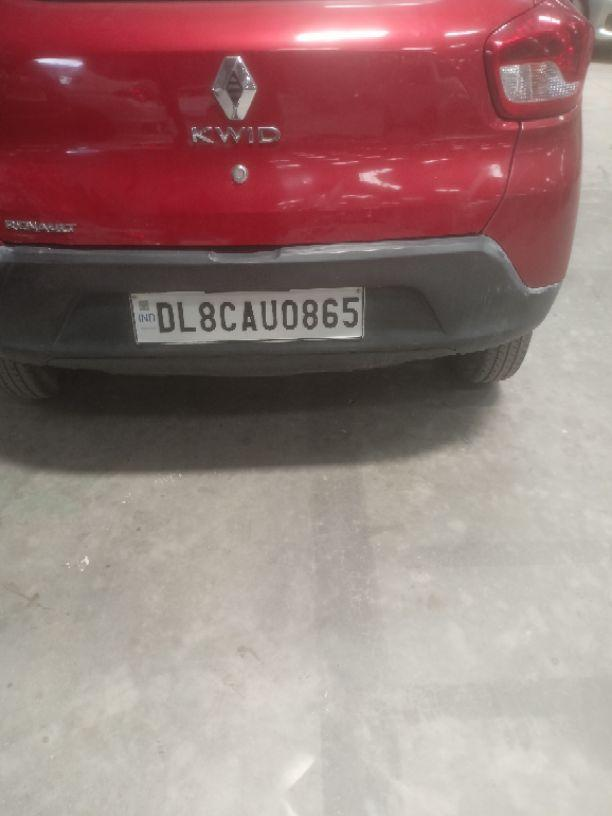license_plate: (127, 284, 366, 345)
